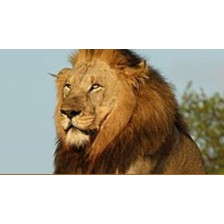lion: (48, 49, 207, 175)
